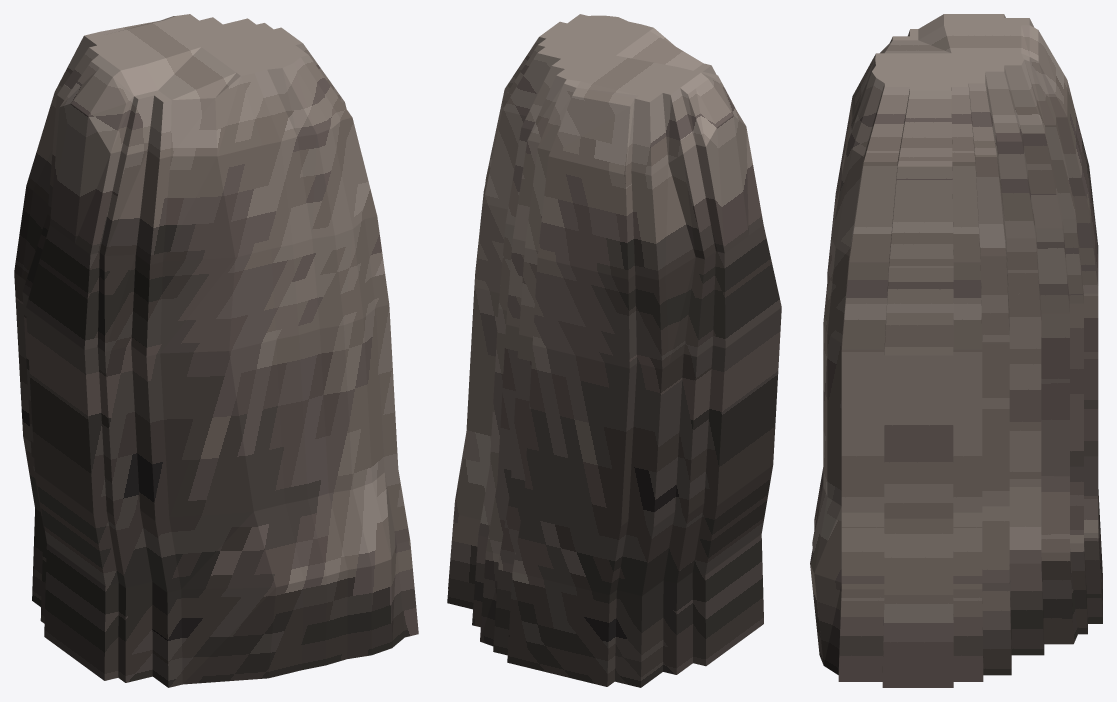
The model's file is standing_stone_634x01.gltf.
3 views of the same model, side by side, from view 1: azimuth 30°, elevation 25°; view 2: azimuth 150°, elevation 25°; view 3: azimuth 270°, elevation 25° (orthographic). The views are drawn at different scales.
Visible parts, largest first — view 1: standing_stone_634x01; view 2: standing_stone_634x01; view 3: standing_stone_634x01.
Boxes of the visible parts, x1,y1,x2,y2 form: standing_stone_634x01: (14, 14, 418, 687); standing_stone_634x01: (447, 14, 781, 687); standing_stone_634x01: (810, 14, 1102, 687).
Size of the model in its own units: 1.47 by 2.58 by 1.24.
1 material, 1 textured.
